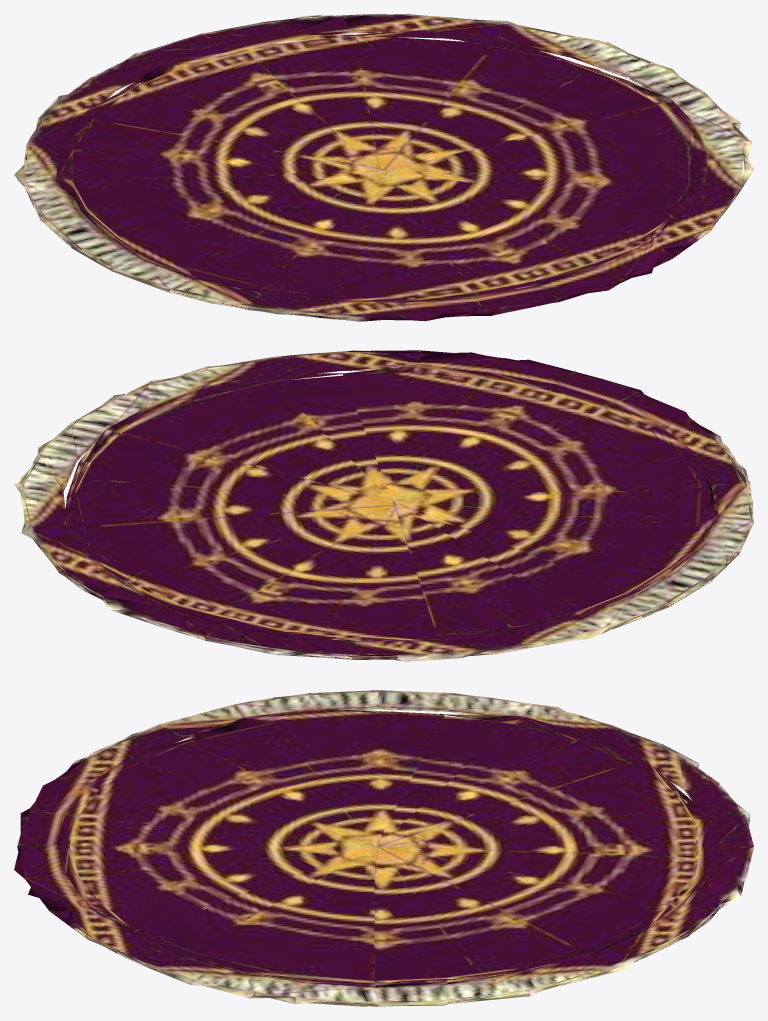
File: rune-rug.lod1.glb
The picture shows the model from 3 angles, top to bottom: view 1: azimuth 30°, elevation 25°; view 2: azimuth 150°, elevation 25°; view 3: azimuth 270°, elevation 25°; orthographic projection.
Size of the model in its own units: 2.4 by 0.02 by 2.39.
1 material, 1 textured.
